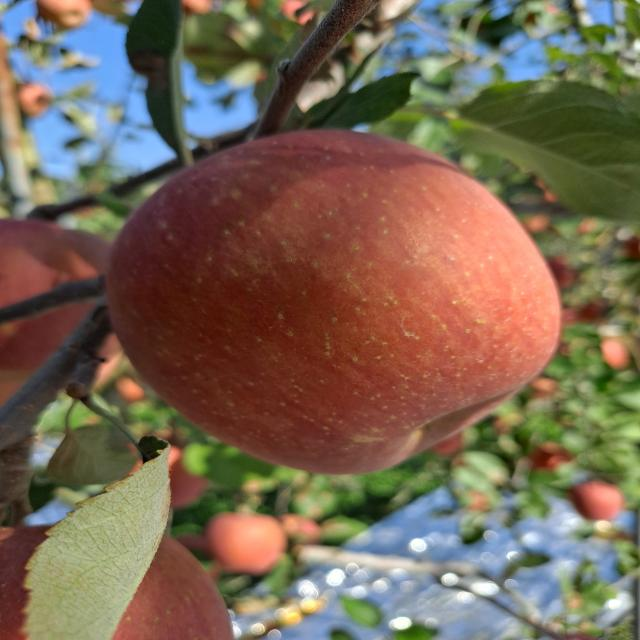fresh: (97, 118, 578, 484)
